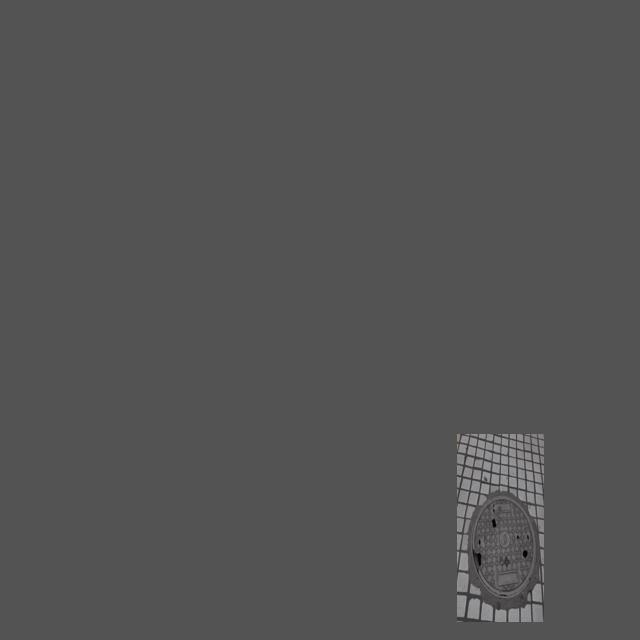broke: (471, 497, 536, 598)
